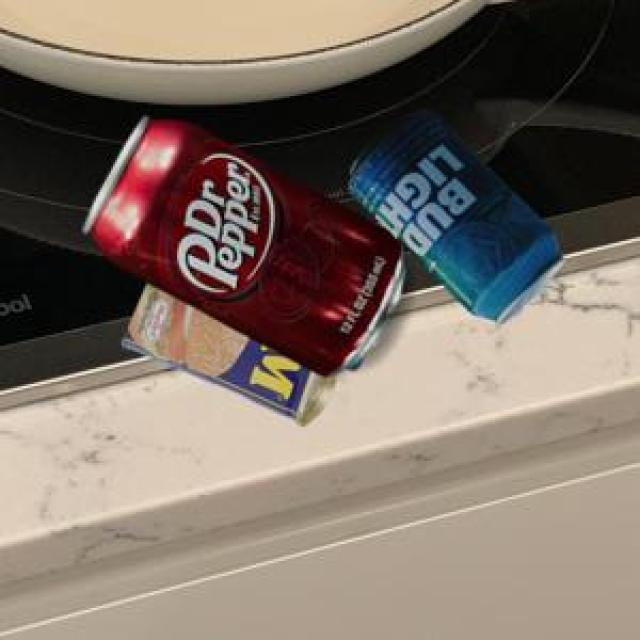Can: (80, 114, 402, 372), (347, 108, 562, 321), (122, 279, 335, 423)
